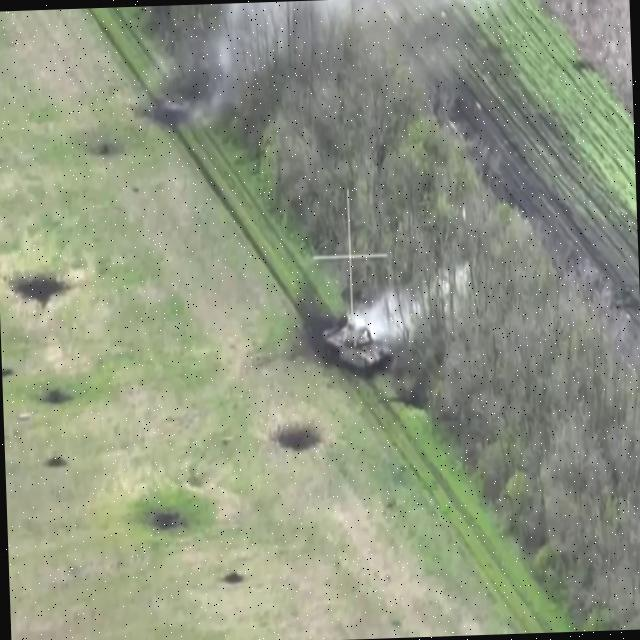MBT: (325, 317, 390, 374)
